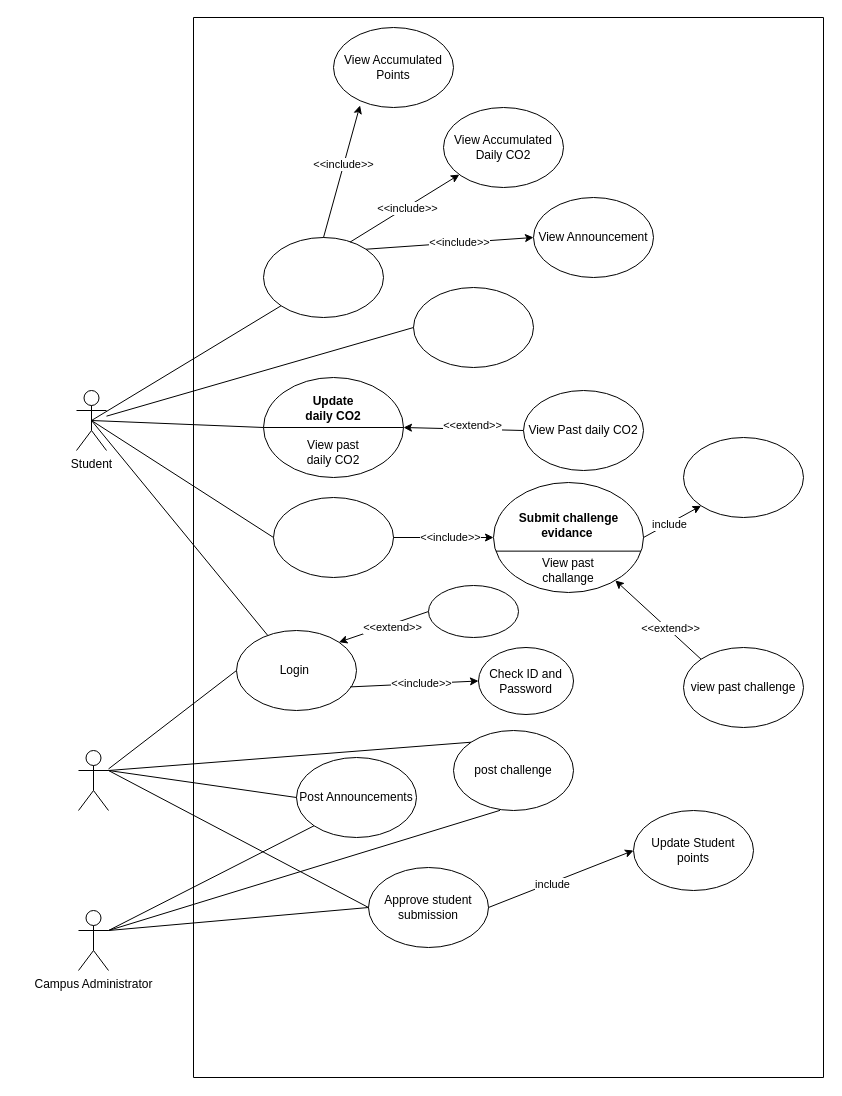
This 842x1096 diagram has some shape labels left out. The box of each missing label's shape, as (x1, y1, x2, y2) in pixels:
Display error massage: (428, 584, 518, 638)
Join Challenge: (272, 496, 394, 578)
See redeem catalogue: (412, 286, 534, 368)
Sustainability Club Members: (78, 750, 108, 810)
View Dashboard: (262, 236, 384, 318)
View Points obtained: (682, 436, 804, 518)
